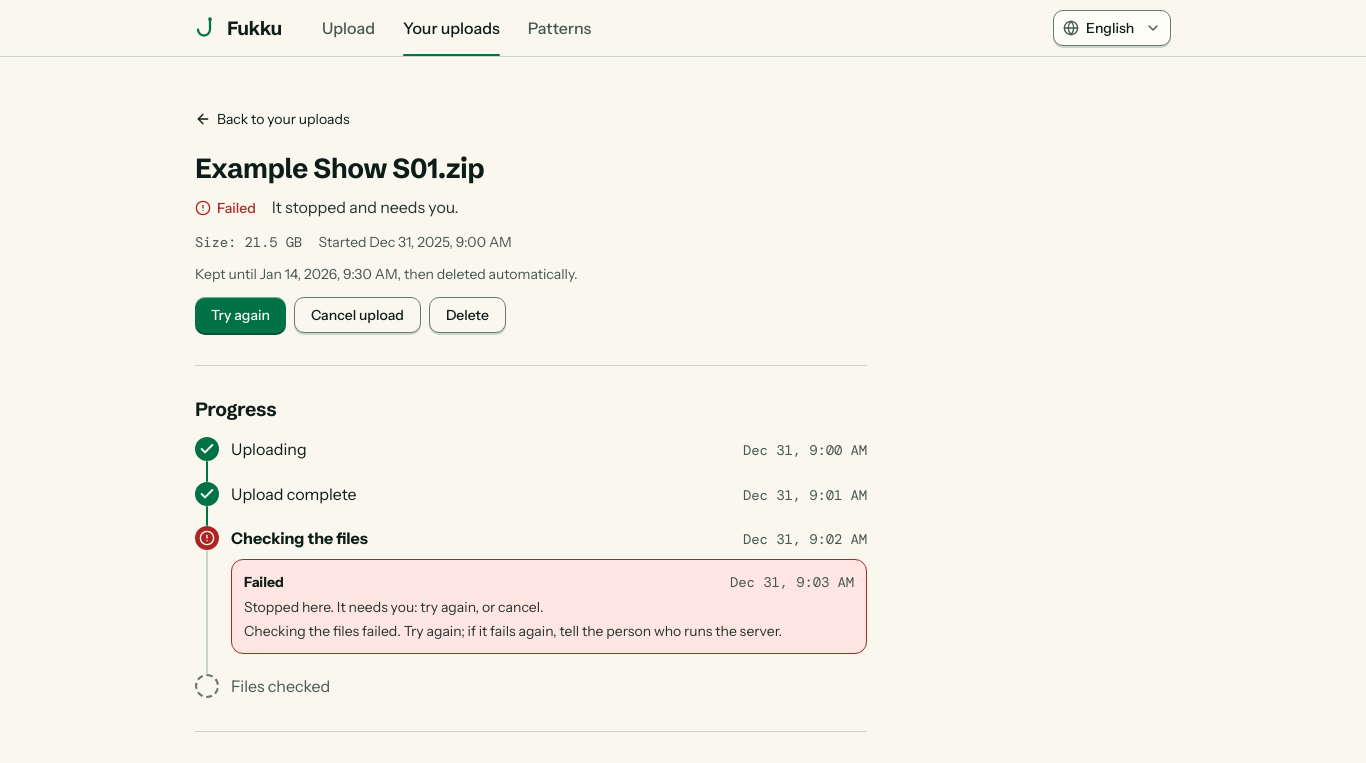
a failed job › delete needs the warning ticked, then leaves for the list
Click the button "Delete" at [467, 315], box [429,297,506,333]
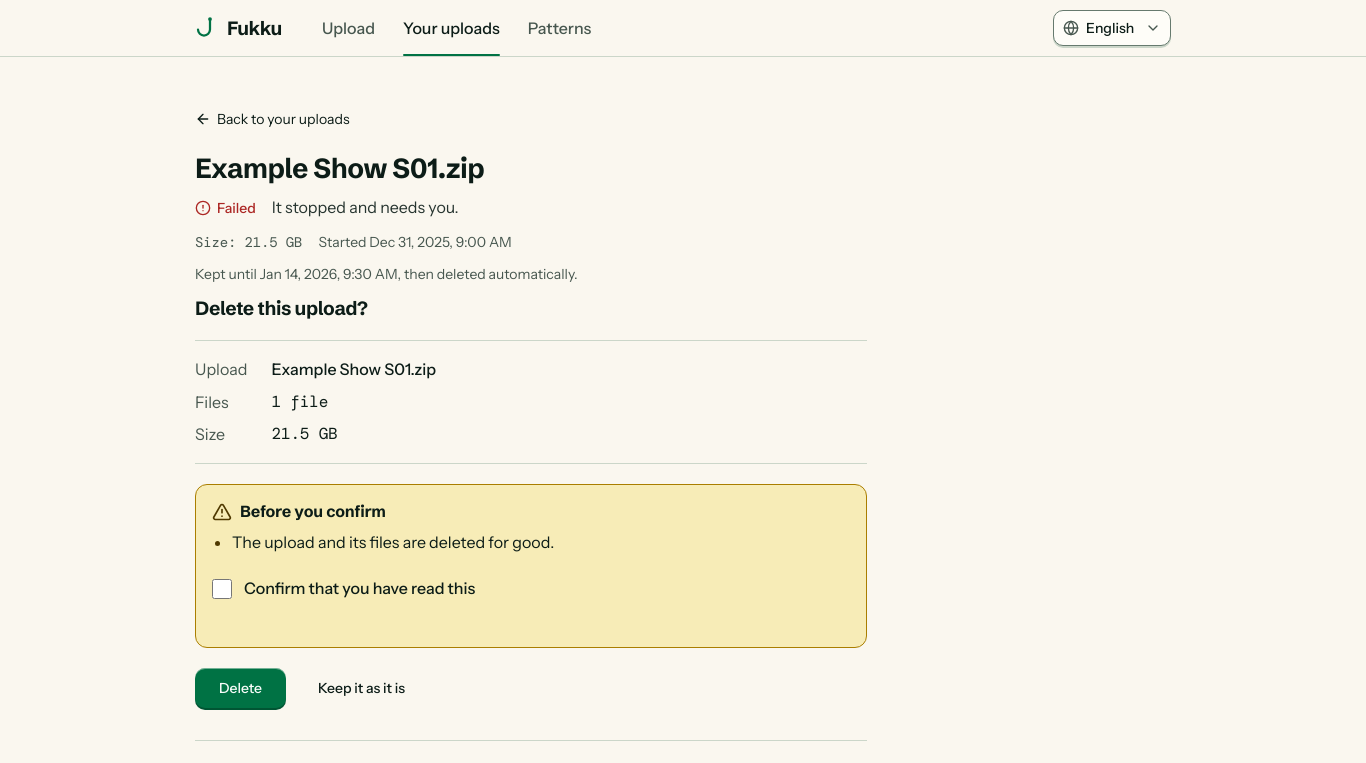
Expected: the form "Delete this upload?" shows "The upload and its files are deleted for good.", [232,532,554,552]
Click the button "Delete" at [240, 688], box [195,668,286,708]
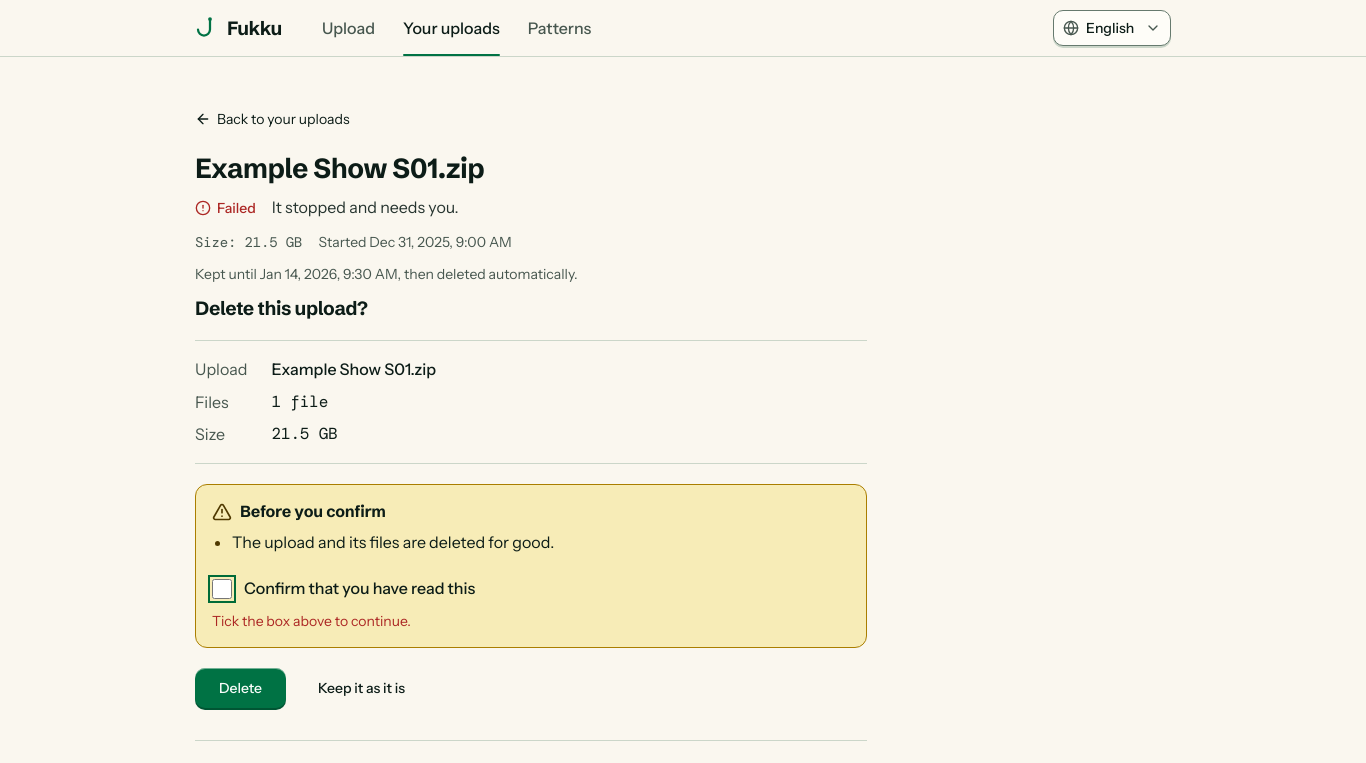
Expected: the text "Tick the box above to continue." is shown, [212,612,411,630]
Click the checkbox at [222, 589], box [212,579,232,599]
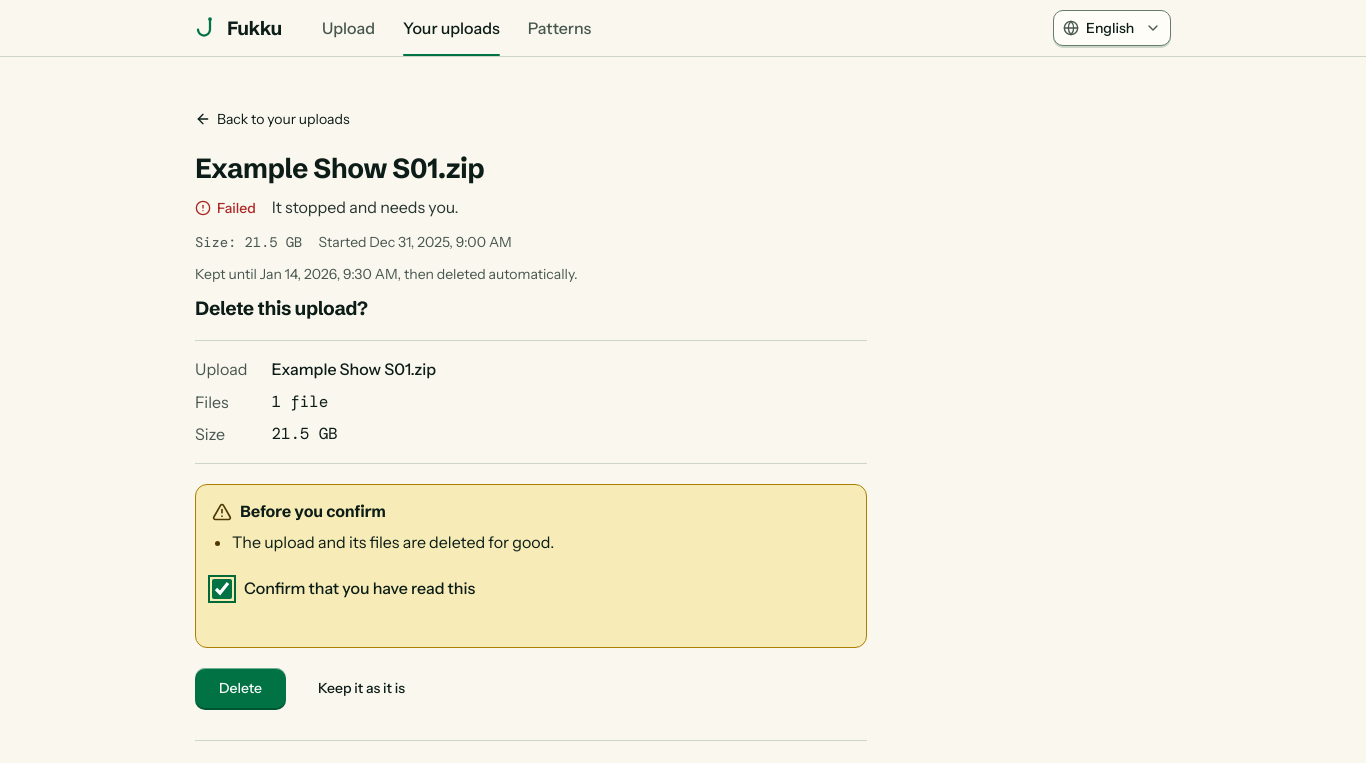
Click the button "Delete" at [240, 688], box [195,668,286,708]
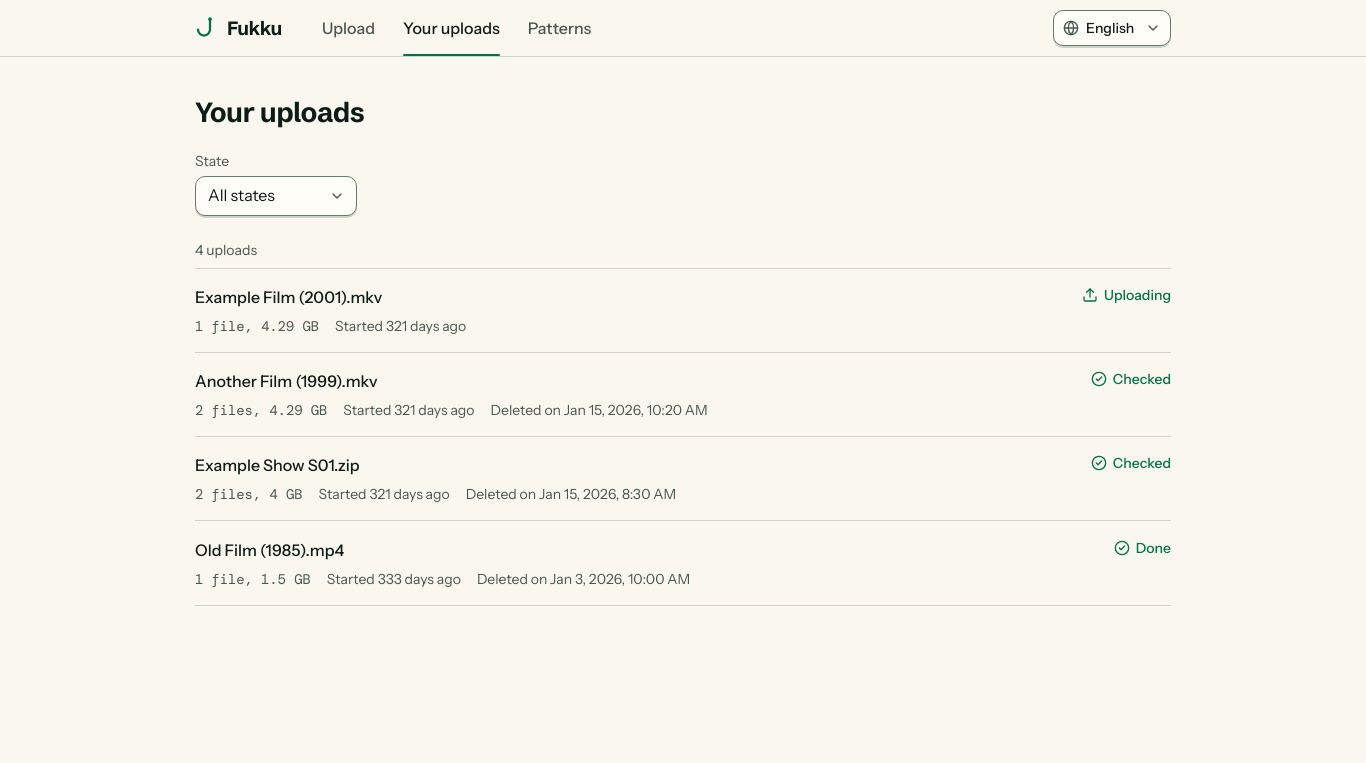
Expected: the text "4 uploads" is shown, [195,241,257,259]
